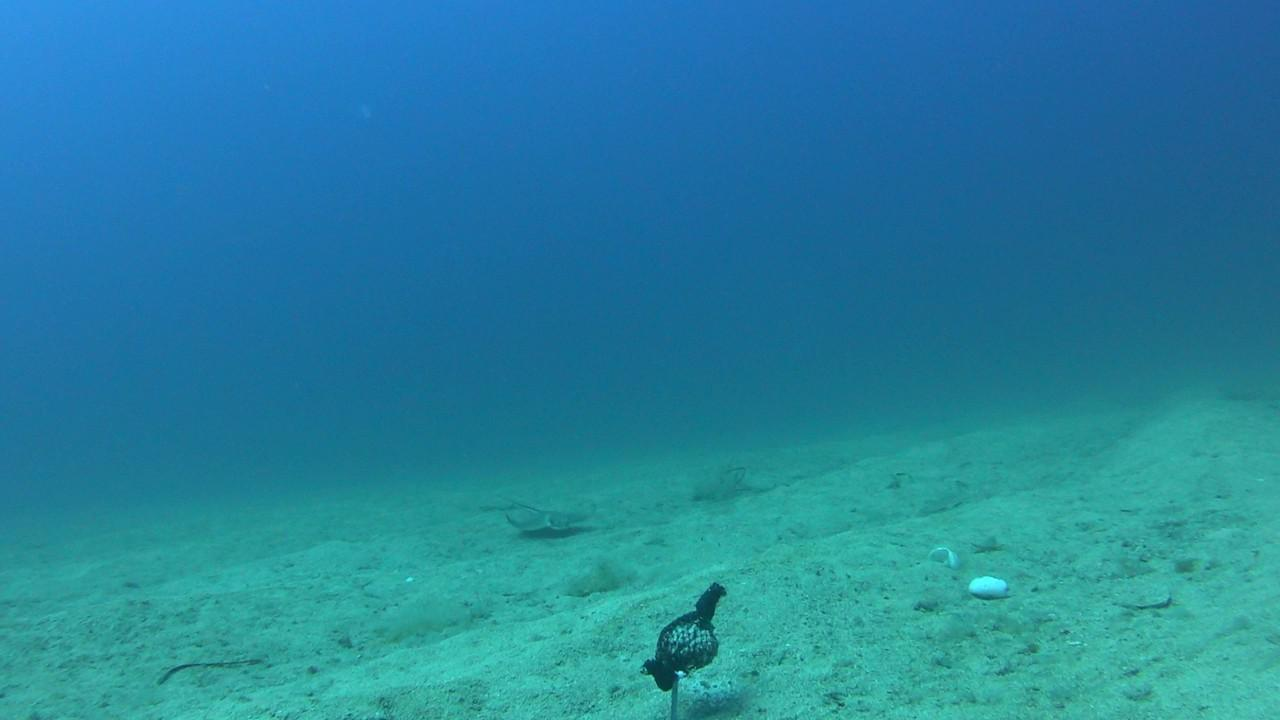myliobatis: (456, 485, 607, 552)
